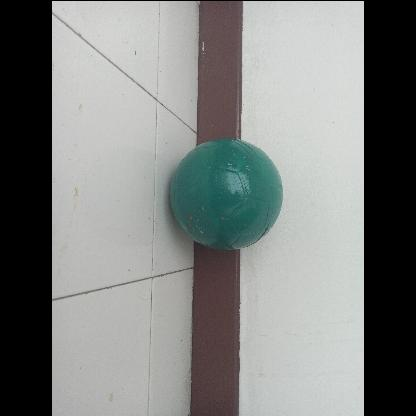green_ball: (170, 137, 286, 253)
